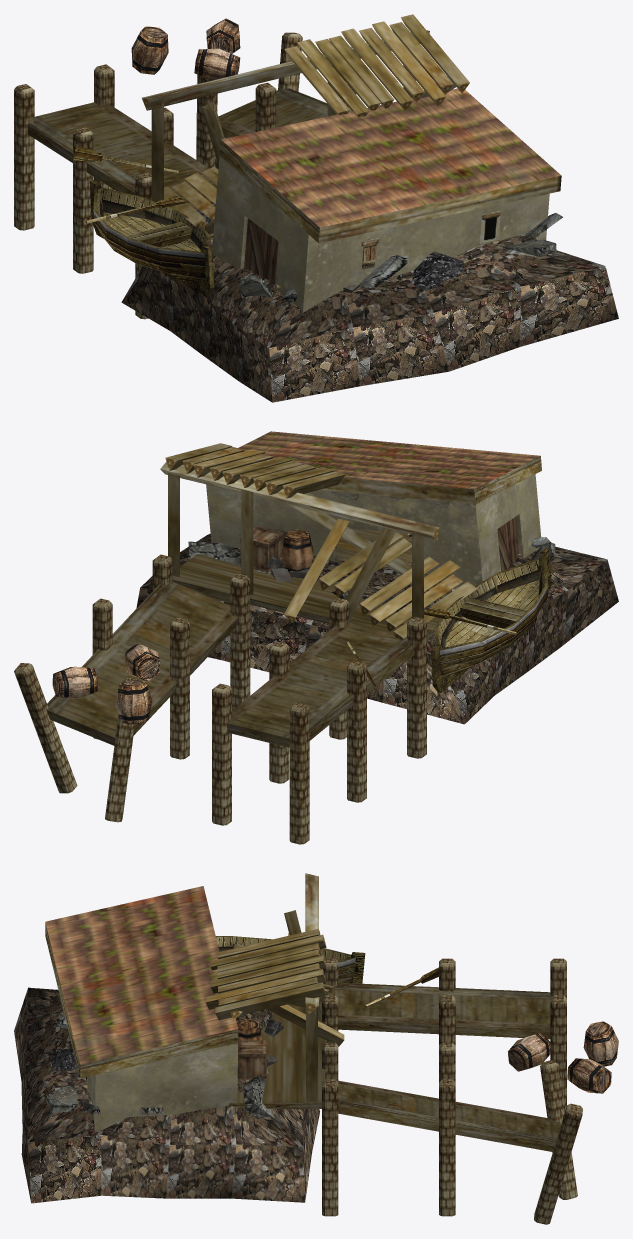
File: rubble_iber_dock.glb
The picture shows the model from 3 angles, top to bottom: view 1: azimuth 30°, elevation 25°; view 2: azimuth 150°, elevation 25°; view 3: azimuth 270°, elevation 25°; orthographic projection. The views are drawn at different scales.
Parts seen in each view (by area): view 1: rubble_iber_dock_part1, rubble_iber_dock_part0, rubble_iber_dock_part2, rubble_iber_dock_part3; view 2: rubble_iber_dock_part1, rubble_iber_dock_part0, rubble_iber_dock_part2, rubble_iber_dock_part3; view 3: rubble_iber_dock_part1, rubble_iber_dock_part0, rubble_iber_dock_part3, rubble_iber_dock_part2.
Boxes of the visible parts, x1,y1,x2,y2 form: rubble_iber_dock_part1: (14,14,561,319); rubble_iber_dock_part0: (121,201,618,402); rubble_iber_dock_part2: (73,144,214,296); rubble_iber_dock_part3: (131,18,240,80); rubble_iber_dock_part1: (14,431,541,844); rubble_iber_dock_part0: (136,533,618,724); rubble_iber_dock_part2: (347,548,551,692); rubble_iber_dock_part3: (52,644,159,724); rubble_iber_dock_part1: (45,873,582,1224); rubble_iber_dock_part0: (14,987,319,1203); rubble_iber_dock_part3: (508,1021,618,1093); rubble_iber_dock_part2: (216,933,438,1007).
Bounding box in the file's own units: 4.37 × 2.74 × 6.14.
4 materials, 4 textured.
